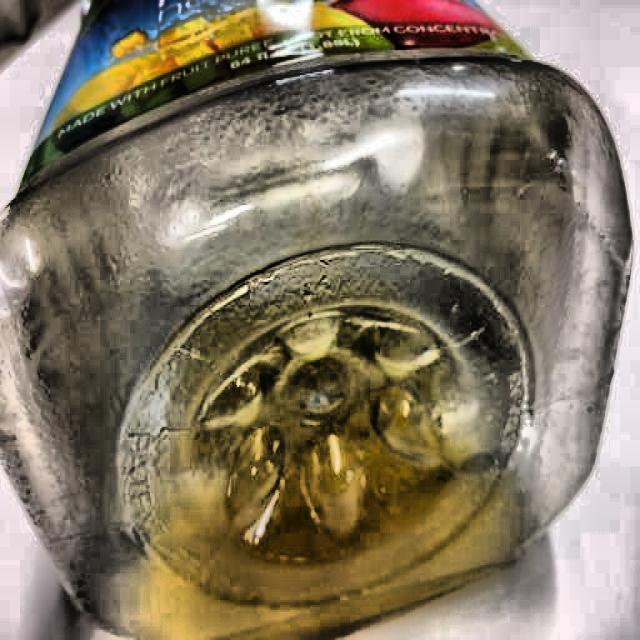plastic: (0, 4, 631, 610)
